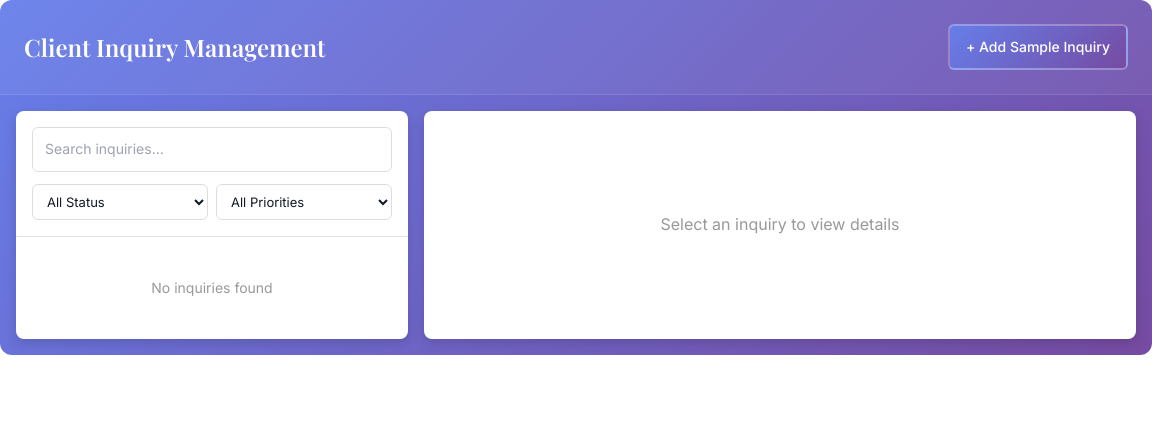
Test: InquiryManagement Component › Adding Inquiries › should create inquiry with required fields
The width and height of the screenshot is (1152, 422).
Click the button with test id "btn-add-inquiry".
click(1038, 47)  # box [948,24,1128,70]
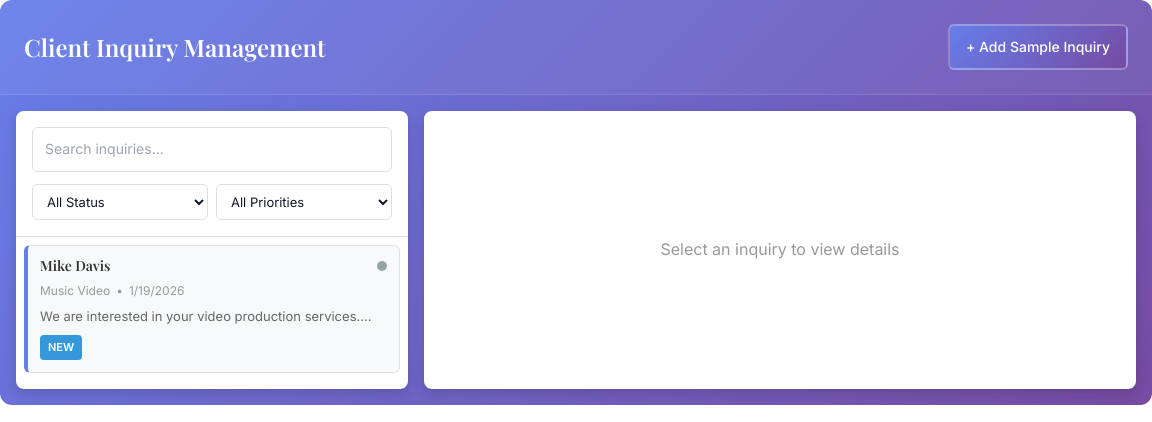
Result: the element with test id "^inquiry-item-" is shown at [24,245,400,373]
